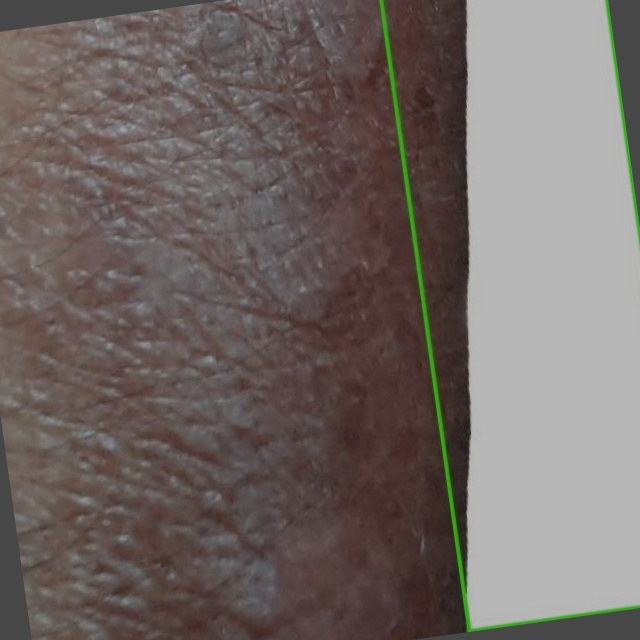Tinea Corporis: (381, 0, 639, 631)
